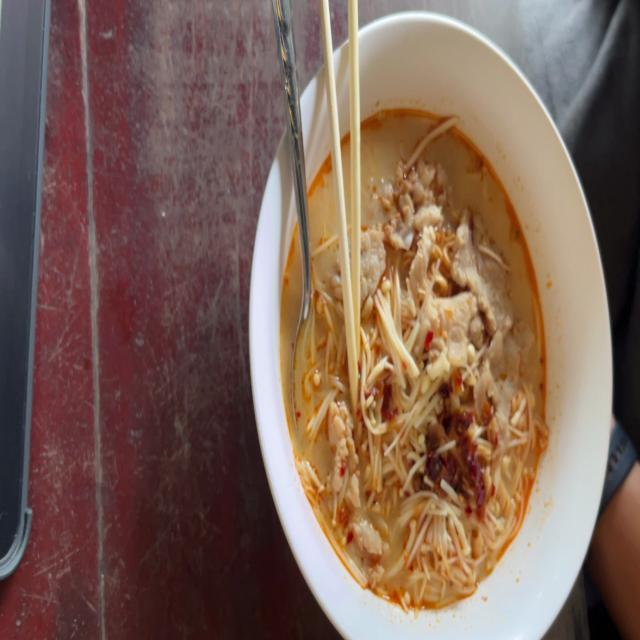noodle: (277, 101, 561, 625)
